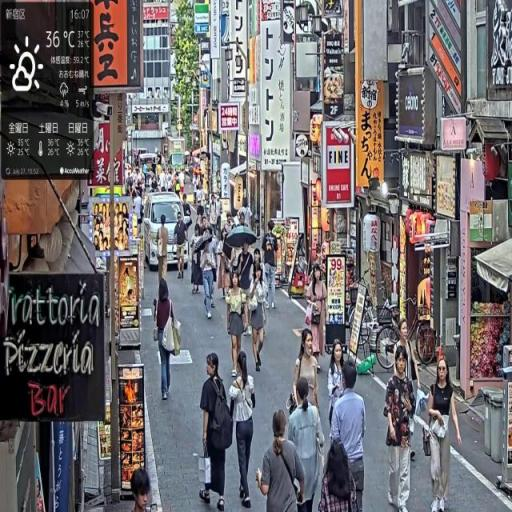person: (328, 359, 368, 512), (286, 376, 328, 512), (383, 348, 417, 512), (199, 349, 233, 512), (427, 356, 462, 512), (255, 409, 308, 512), (227, 341, 258, 511), (154, 277, 181, 404), (247, 260, 269, 373), (292, 328, 320, 414), (227, 271, 249, 377), (307, 259, 329, 361), (327, 340, 350, 434), (263, 223, 280, 314), (200, 238, 218, 320), (130, 469, 153, 512), (175, 214, 189, 284), (157, 217, 171, 284)
